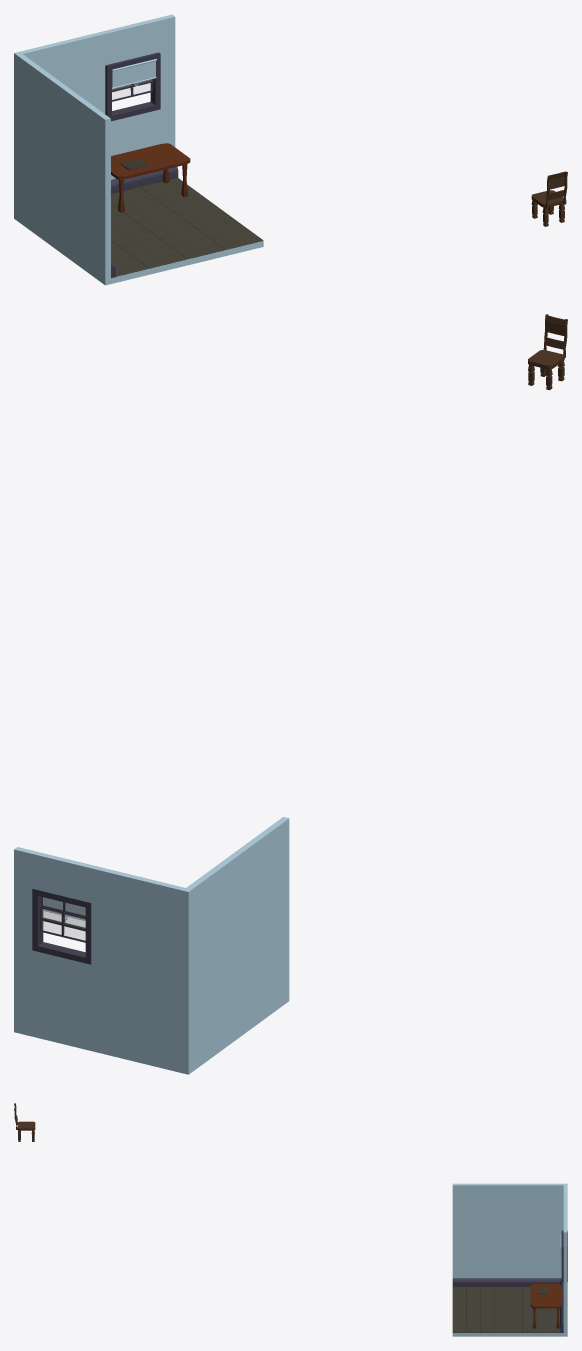
Rendered from darkroomwith2animations.glb.
The picture shows the model from 3 angles, top to bottom: view 1: azimuth 30°, elevation 25°; view 2: azimuth 150°, elevation 25°; view 3: azimuth 270°, elevation 25°; orthographic projection. The views are drawn at different scales.
Parts seen in each view (by area): view 1: Room, Floor, Desk, Window, Cube, WindowShade, Trim, WindowPane.001; view 2: Room, Window, Cube, WindowPane.001; view 3: Room, Floor, Trim, Desk, Cube.
Part boxes in pixels (box(x1,y1,x2,y2)): Room: box(14, 14, 263, 285); Floor: box(111, 178, 263, 276); Desk: box(111, 143, 190, 212); Window: box(105, 52, 160, 121); Cube: box(531, 171, 567, 226); WindowShade: box(112, 59, 156, 88); Trim: box(111, 167, 178, 278); WindowPane.001: box(112, 79, 152, 101); Room: box(14, 817, 289, 1074); Window: box(32, 888, 91, 964); Cube: box(528, 314, 567, 390); WindowPane.001: box(40, 906, 85, 942); Room: box(452, 1183, 567, 1336); Floor: box(452, 1287, 559, 1332); Trim: box(452, 1278, 563, 1332); Desk: box(530, 1284, 561, 1328); Cube: box(14, 1103, 35, 1141).
Bounding box in the file's own units: 10 × 20.53 × 48.09.
